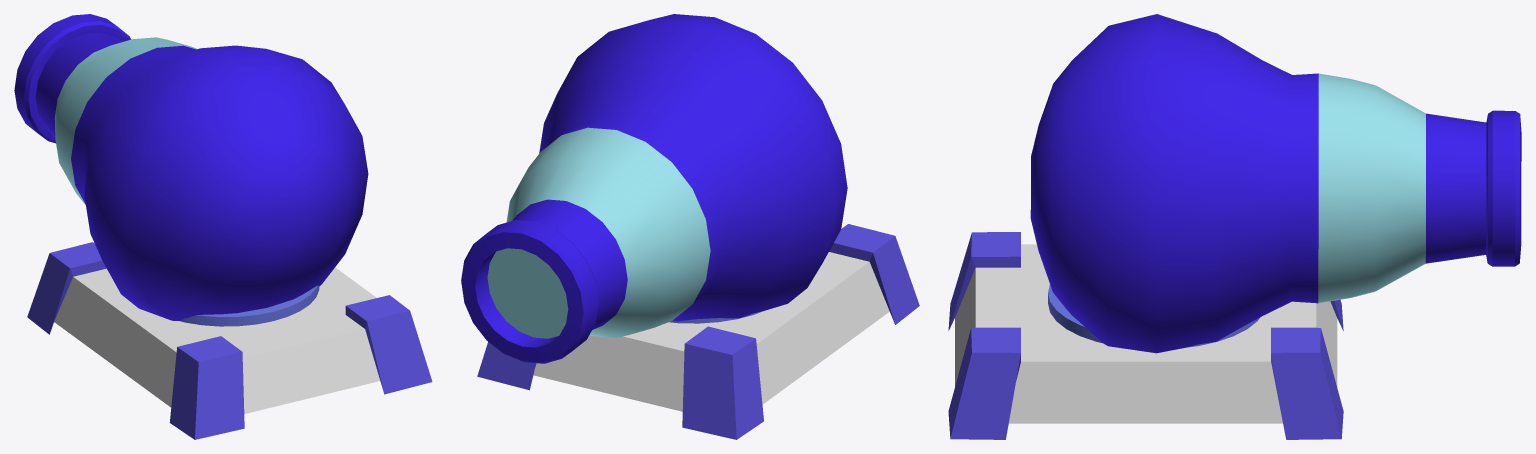
Rendered from M_canon.fbx.
3 views of the same model, side by side, from view 1: azimuth 30°, elevation 25°; view 2: azimuth 150°, elevation 25°; view 3: azimuth 270°, elevation 25° (orthographic). The views are drawn at different scales.
Visible parts, largest first — view 1: M_Canon, M_canon_stand, Circle; view 2: M_Canon, M_canon_stand; view 3: M_Canon, M_canon_stand, Circle.
Boxes of the visible parts, x1,y1,x2,y2 form: M_Canon: [14, 14, 368, 320]; M_canon_stand: [27, 242, 432, 439]; Circle: [180, 285, 319, 326]; M_Canon: [461, 14, 847, 363]; M_canon_stand: [477, 224, 919, 439]; M_Canon: [1030, 14, 1521, 353]; M_canon_stand: [948, 232, 1343, 439]; Circle: [1048, 284, 1259, 347].
Size of the model in its own units: 2.76 by 2.98 by 4.51.
